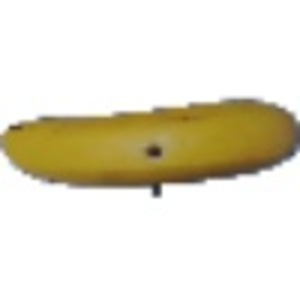banana: (2, 93, 297, 187)
